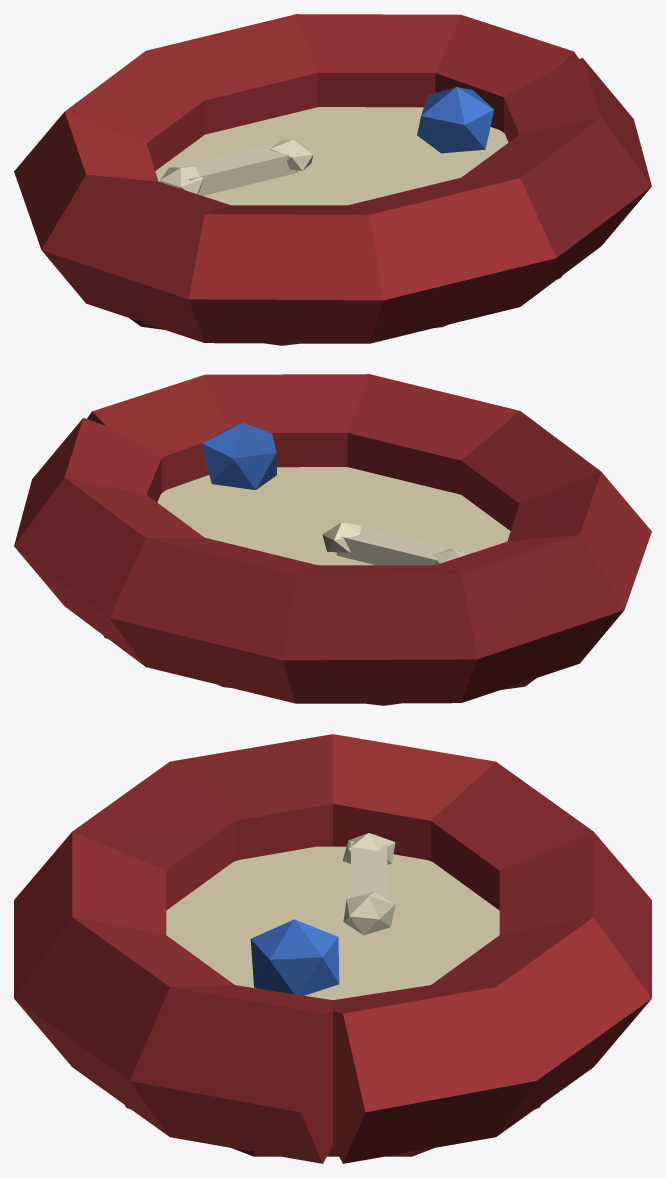
Rendered from pet_bed.glb.
The picture shows the model from 3 angles, top to bottom: view 1: azimuth 30°, elevation 25°; view 2: azimuth 150°, elevation 25°; view 3: azimuth 270°, elevation 25°; orthographic projection. The views are drawn at different scales.
Visible parts, largest first — view 1: pet_bed; view 2: pet_bed; view 3: pet_bed.
Part boxes in pixels (<box>): pet_bed: <box>14,14,651,345</box>; pet_bed: <box>14,374,651,705</box>; pet_bed: <box>14,734,651,1163</box>.
Bounding box in the file's own units: 1.07 × 0.2581 × 0.8788.
